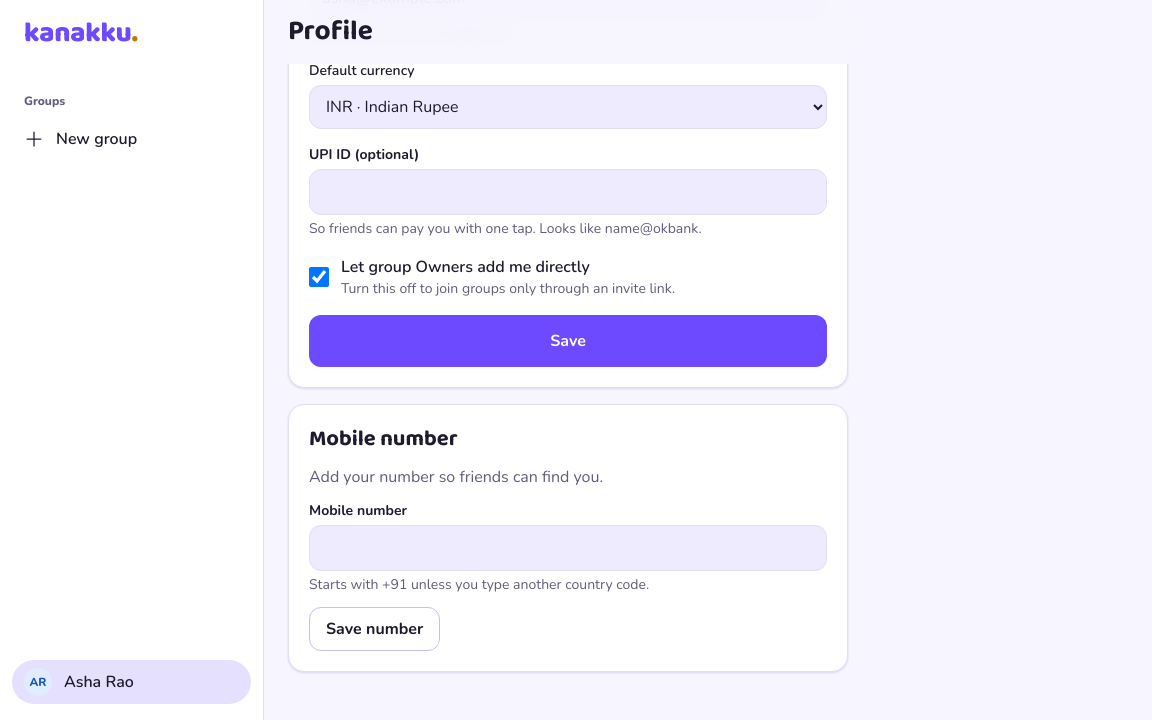
it: PhoneSection › saves a number with the profile's version and shows it as unverified
(page scrolled)
Check: the heading "Mobile number" is shown, box [309, 421, 458, 457]
Type "98765 43210" into the field labelled "Mobile number" at point(568, 548), box [310, 526, 826, 570]
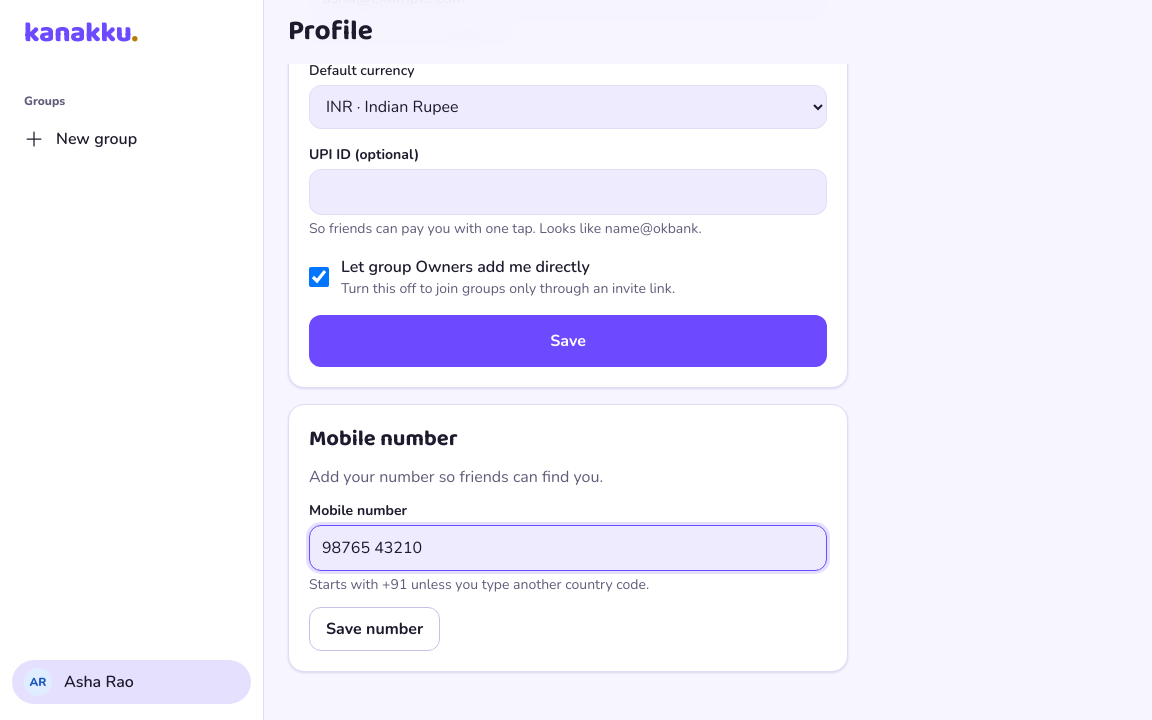
Click the button "Save number" at point(375, 629), box [309, 607, 440, 651]
(page scrolled)
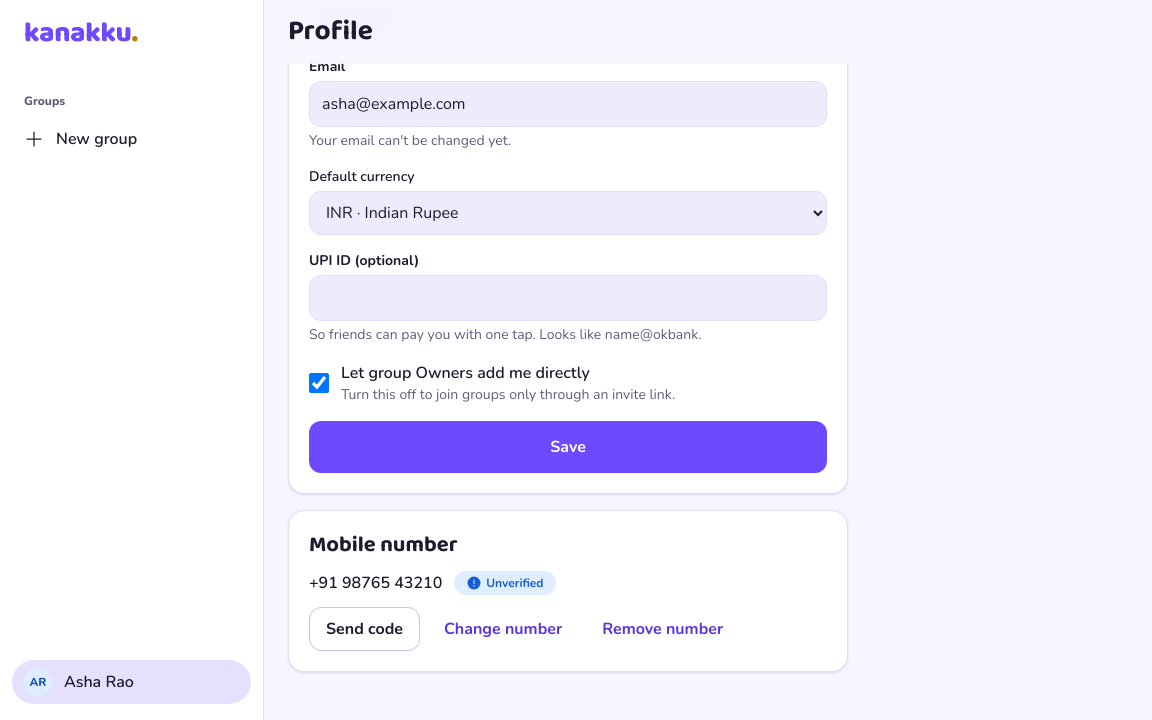
Check: the text "+91 98765 43210" is shown, box [309, 571, 442, 595]
Check: the text "Unverified" is shown, box [454, 571, 556, 595]
Check: the button "Send code" is shown, box [309, 607, 420, 651]
